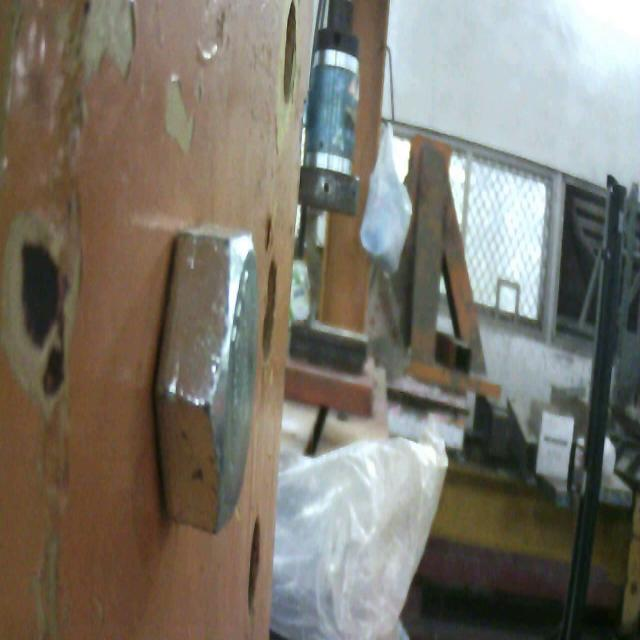Missing bolt: (264, 261, 280, 359), (249, 518, 265, 612), (284, 1, 298, 103)
Regular bolt: (149, 226, 260, 536)
